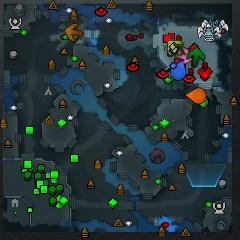p1: (170, 61, 186, 80)
p5: (185, 87, 206, 104)
x1: (179, 47, 192, 64)
x2: (167, 40, 183, 56)
x4: (187, 48, 205, 67)
x5: (64, 24, 83, 41)
